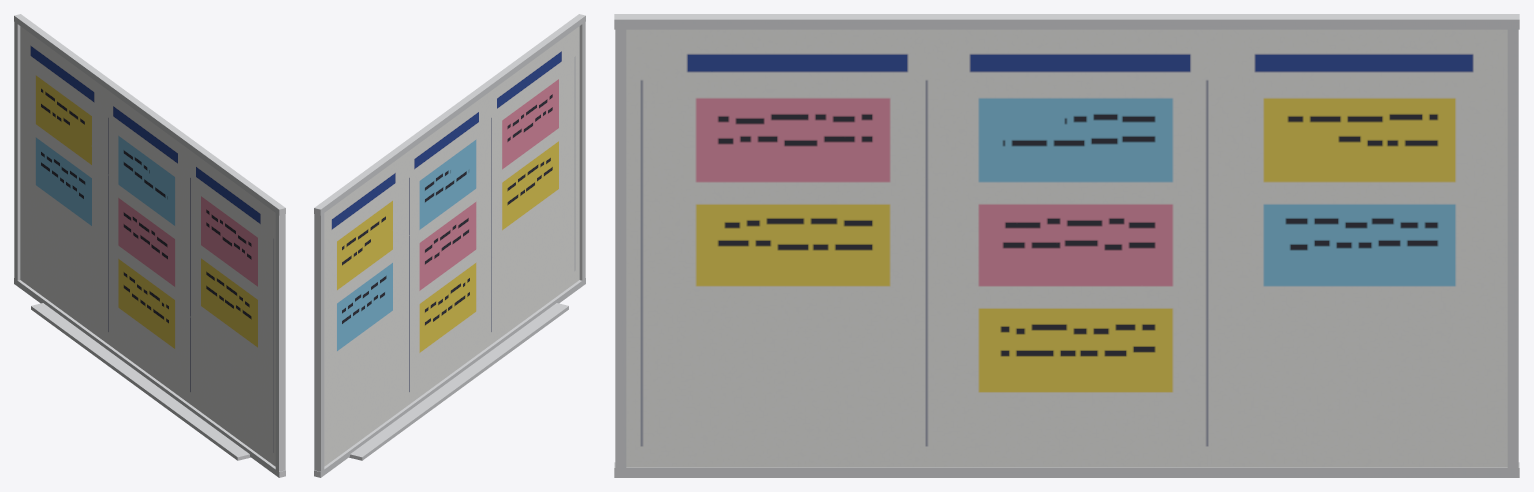
The model's file is oficina_abierta.pizarra.fbx.
3 renders of one model, left to right at view 1: azimuth 30°, elevation 25°; view 2: azimuth 150°, elevation 25°; view 3: azimuth 270°, elevation 25°, orthographic. The views are drawn at different scales.
Visible parts, largest first — view 1: Pizarra, Marco.001, Bandeja, Marco.003, Marco, Marco.002; view 2: Pizarra, Marco.001, Bandeja, Marco.002, Marco, Marco.003; view 3: Pizarra, Marco.001, Marco, Marco.003, Marco.002.
Boxes of the visible parts, x1=… form: Pizarra: x1=20, y1=26, x2=275, y2=466; Marco.001: x1=14, y1=14, x2=285, y2=215; Bandeja: x1=31, y1=303, x2=250, y2=460; Marco.003: x1=275, y1=208, x2=285, y2=476; Marco: x1=14, y1=278, x2=285, y2=477; Marco.002: x1=14, y1=17, x2=20, y2=284; Pizarra: x1=324, y1=26, x2=579, y2=466; Marco.001: x1=314, y1=14, x2=585, y2=215; Bandeja: x1=349, y1=303, x2=568, y2=460; Marco.002: x1=314, y1=210, x2=324, y2=474; Marco: x1=314, y1=278, x2=585, y2=477; Marco.003: x1=579, y1=18, x2=585, y2=284; Pizarra: x1=626, y1=29, x2=1507, y2=467; Marco.001: x1=614, y1=14, x2=1519, y2=29; Marco: x1=614, y1=462, x2=1519, y2=477; Marco.003: x1=615, y1=21, x2=626, y2=474; Marco.002: x1=1507, y1=21, x2=1518, y2=467.
Size of the model in its own units: 0.085 by 1.15 by 2.05.
2 materials, 1 textured.
